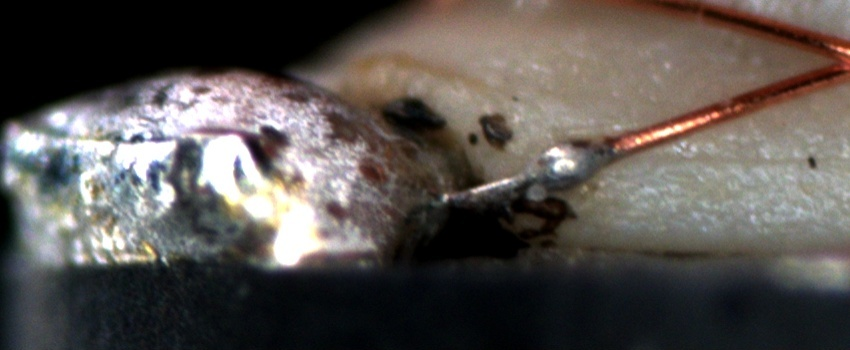CL: (799, 29, 849, 88)
DL: (632, 125, 850, 189)
TB: (523, 133, 612, 191)
TS: (444, 137, 617, 210)
TTCW: (439, 121, 662, 206)
